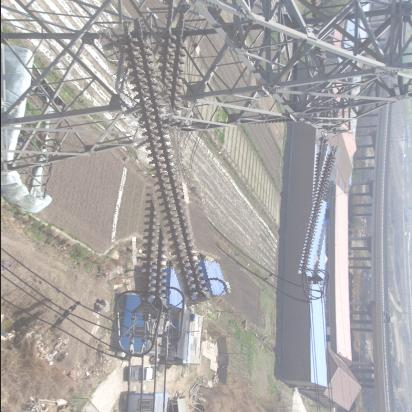insulator: (118, 18, 210, 308), (304, 145, 335, 278)
